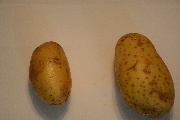potato: (113, 32, 176, 117), (30, 40, 71, 106)
